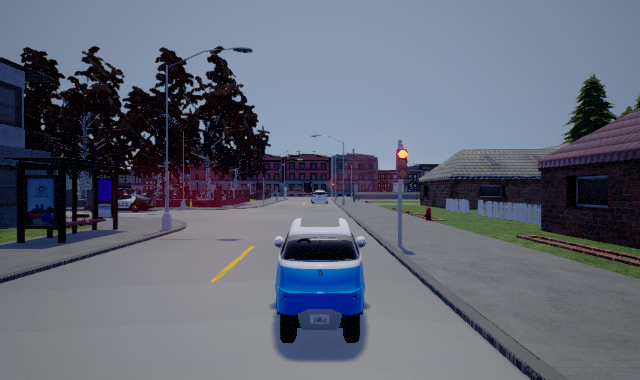traffic_light: (397, 148, 408, 179)
vehicle: (274, 217, 366, 343), (118, 192, 156, 212), (311, 189, 328, 203)
